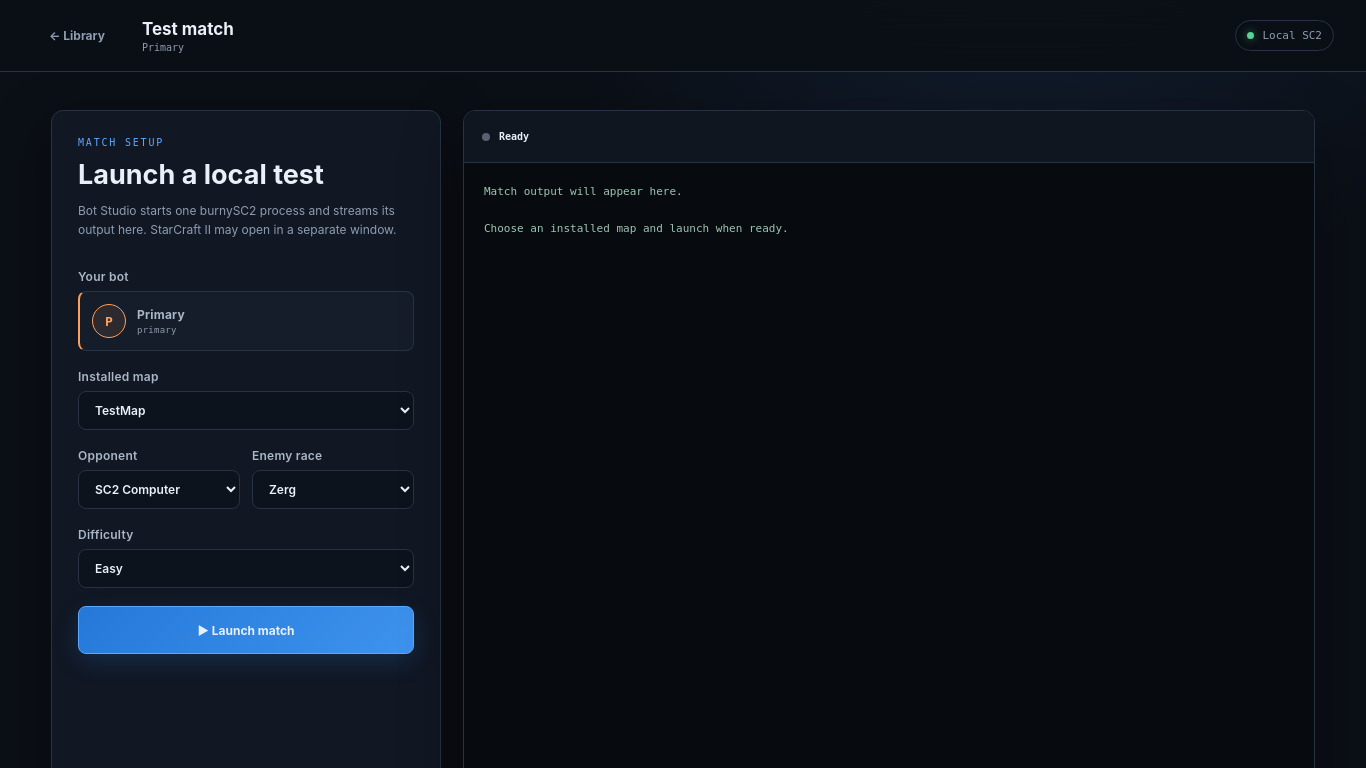
it: RunConsole › switches from computer settings to a Studio bot opponent
The image size is (1366, 768).
Select "Studio Bot" in the dropdown labelled "Opponent" at (159,490), box [78,470,240,509]
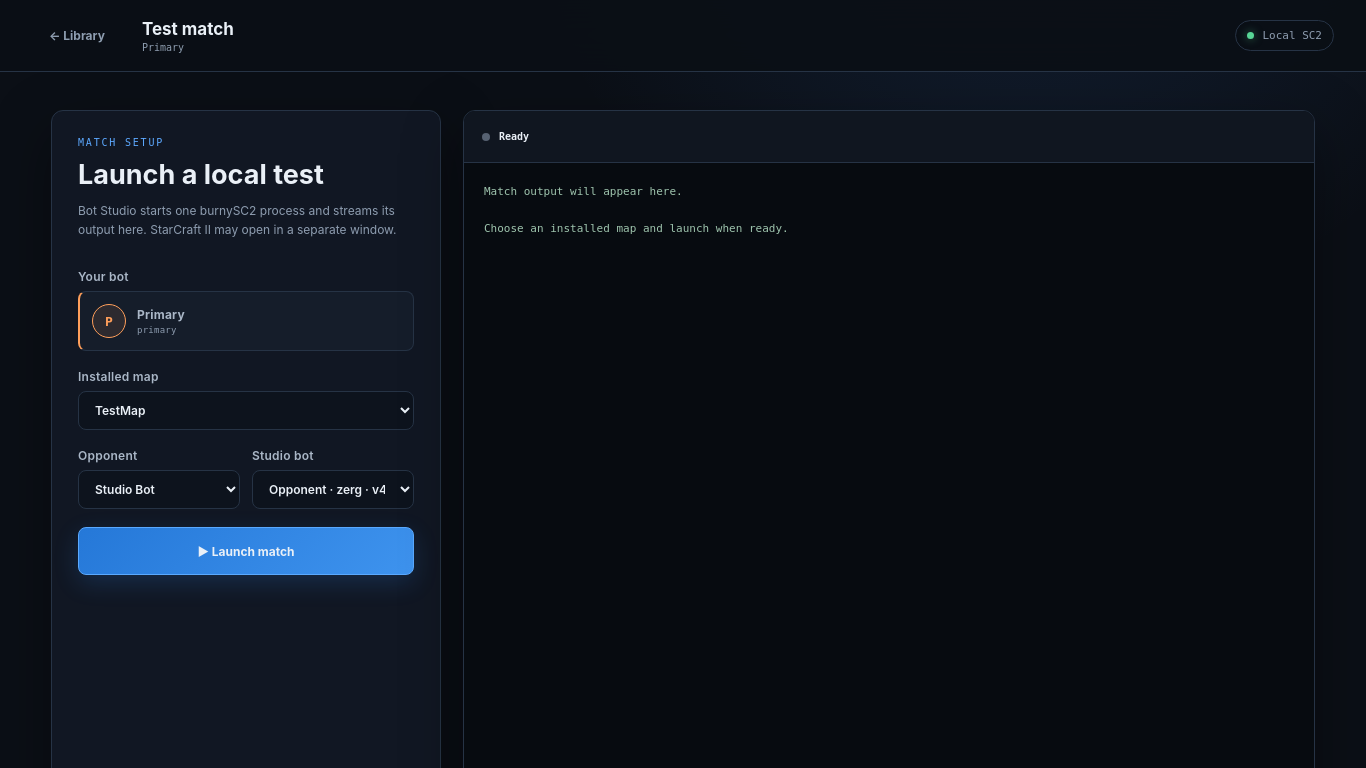
Expected: the dropdown labelled "Studio bot" shows "Opponent · zerg · v4", [252,470,414,509]
Expected: the label labelled "Difficulty" is gone
